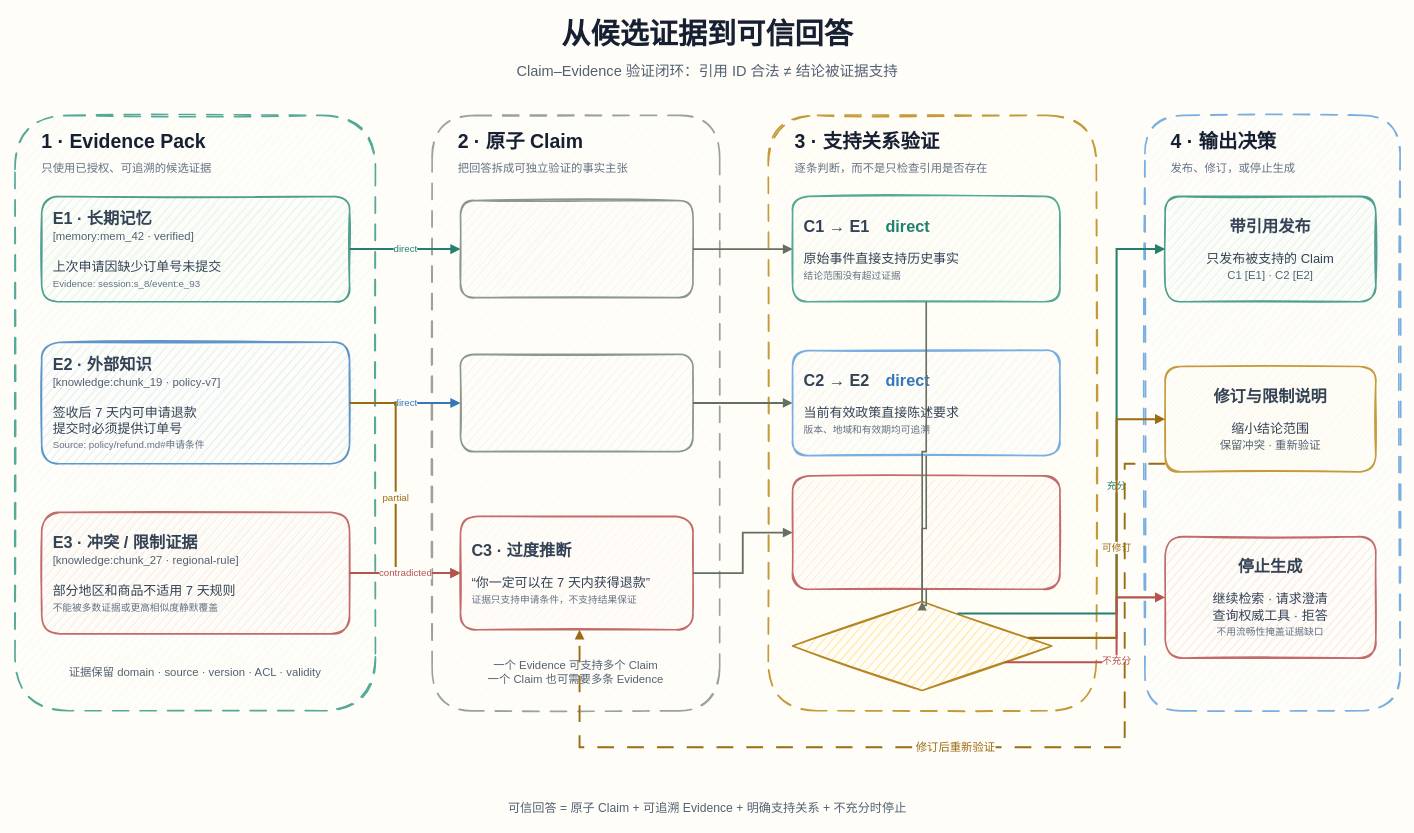
This 1414x833 diagram has some shape labels left out. Here are the shapes that lost their labels. From the top down, the centre of each, then its label:
[576,248]: C1 · 历史事实 “你的上次申请 没有提交成功”
[576,402]: C2 · 当前要求 “这次申请需要 提供订单号”
[925,532]: C3 → E2 + E3 partial contradicted 证据不足，并存在适用范围冲突 不能原样发布
[921,645]: 关键 Claim 支持充分吗？
